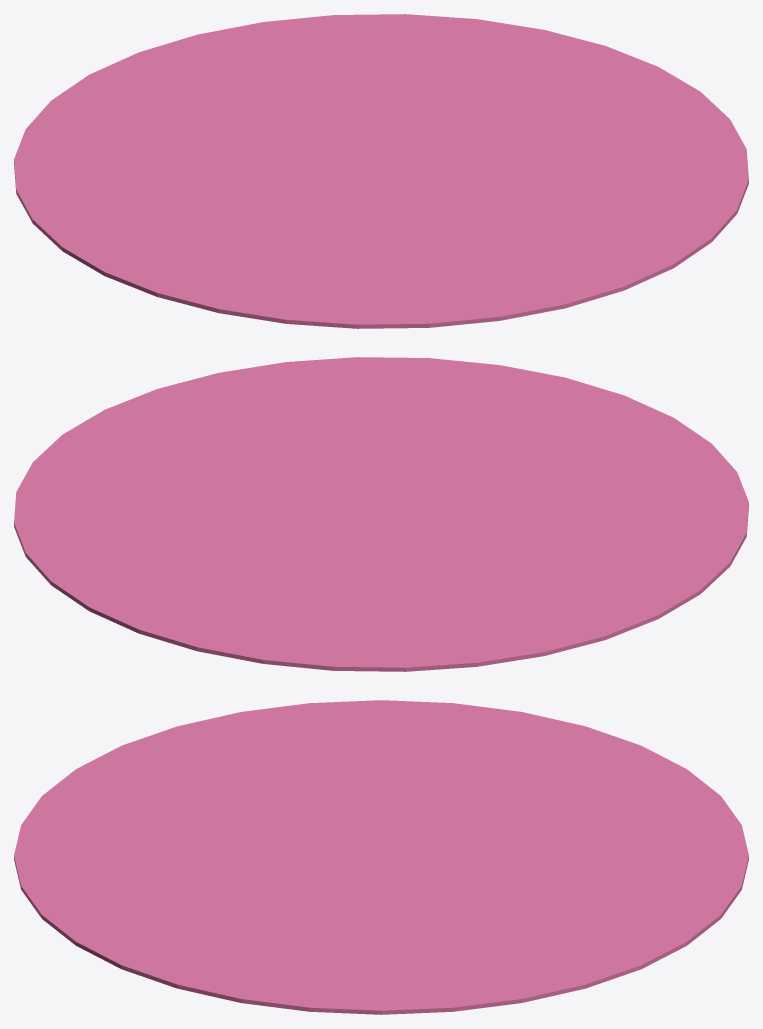
The model's file is balogna.FBX.
3 views of the same model, one above another, from view 1: azimuth 30°, elevation 25°; view 2: azimuth 150°, elevation 25°; view 3: azimuth 270°, elevation 25° (orthographic).
Visible parts, largest first — view 1: Balogna; view 2: Balogna; view 3: Balogna.
Boxes of the visible parts, <box> form: Balogna: <box>14,14,748,328</box>; Balogna: <box>14,357,748,671</box>; Balogna: <box>14,700,748,1014</box>.
Size of the model in its own units: 0.001 by 6.14e-06 by 0.001.
